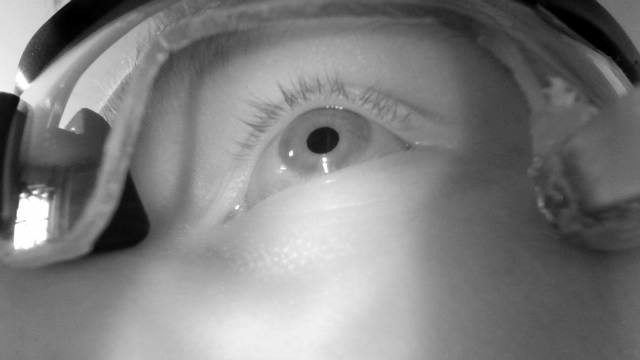pupil: (306, 126, 340, 155)
